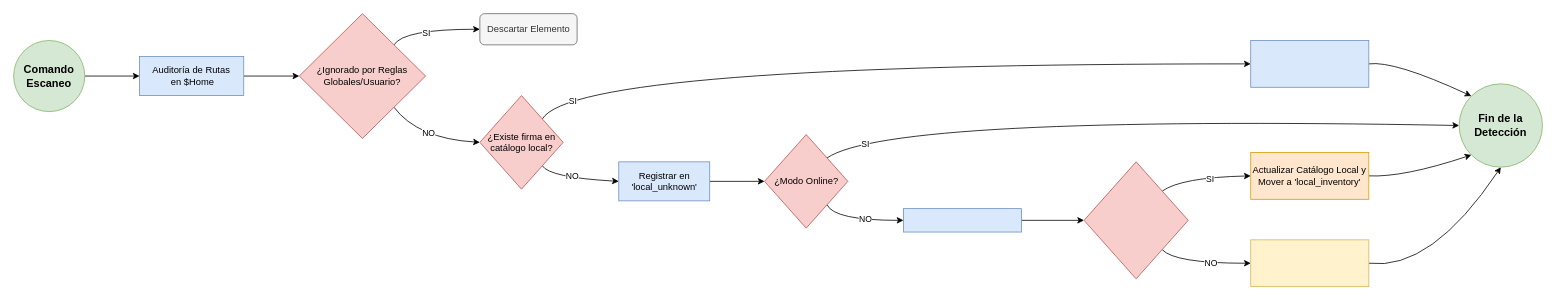
This 1556x300 diagram has some shape labels left out. Each missing label, with the box of its shape:
Petición Rest a /discovery: (903, 208, 1022, 232)
Servidor crea 'server_tasks' (QUEUE) para Resolución con IA: (1250, 239, 1369, 287)
Victular a App en 'local_inventory': (1250, 40, 1369, 87)
¿El Servidor conoce las rutas?: (1083, 161, 1188, 279)
